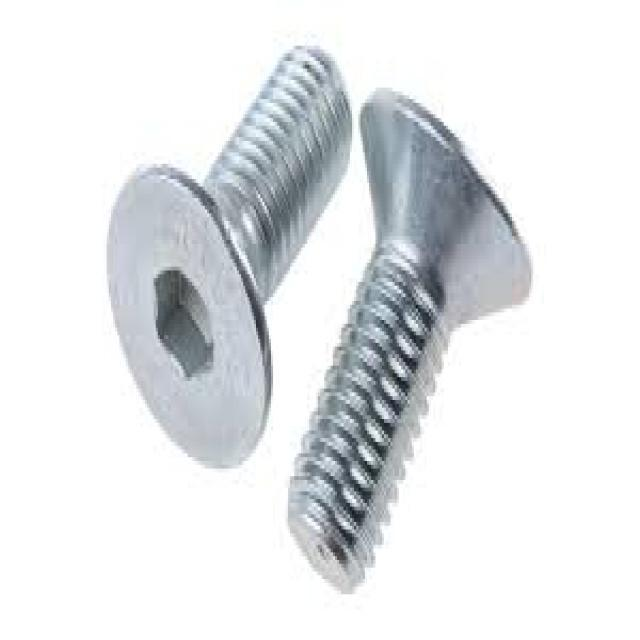Screw: (288, 88, 535, 598), (105, 46, 354, 472)
